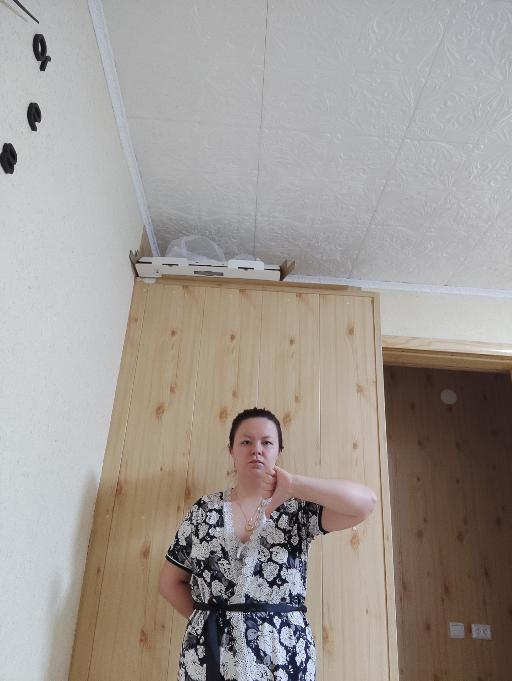dislike: (257, 464, 292, 520)
